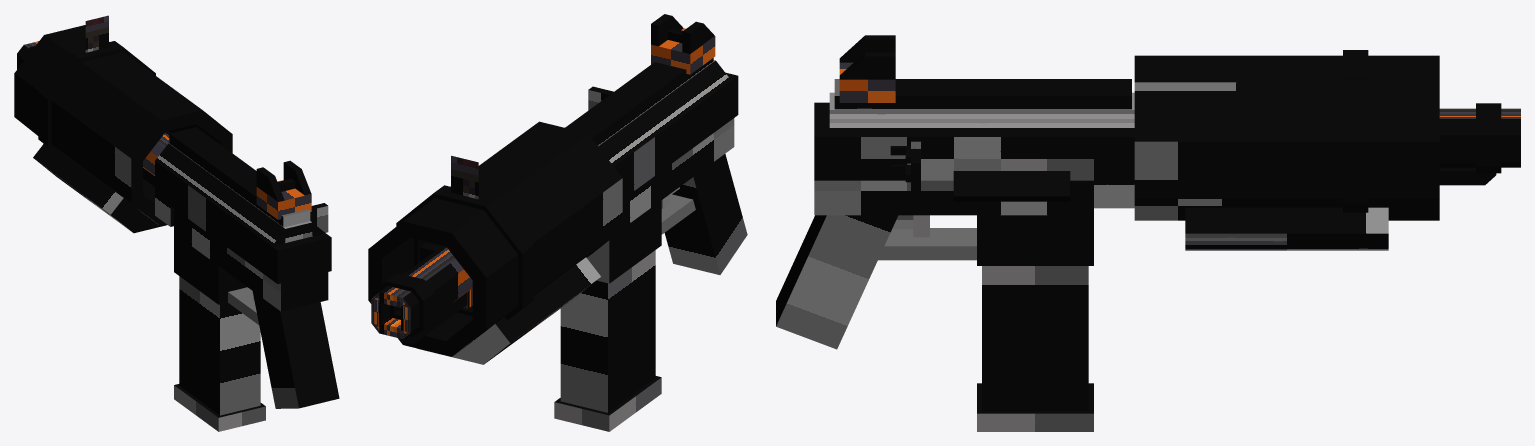
File: mteg_hellfire.glb
The picture shows the model from 3 angles, left to right: view 1: azimuth 30°, elevation 25°; view 2: azimuth 150°, elevation 25°; view 3: azimuth 270°, elevation 25°; orthographic projection. The views are drawn at different scales.
Visible parts, largest first — view 1: Gun; view 2: Gun; view 3: Gun.
Boxes of the visible parts, x1=… form: Gun: x1=14, y1=15, x2=339, y2=431; Gun: x1=368, y1=14, x2=747, y2=431; Gun: x1=776, y1=35, x2=1520, y2=431.
Bounding box in the file's own units: 0.2126 × 0.5481 × 0.9157.
1 material, 1 textured.
